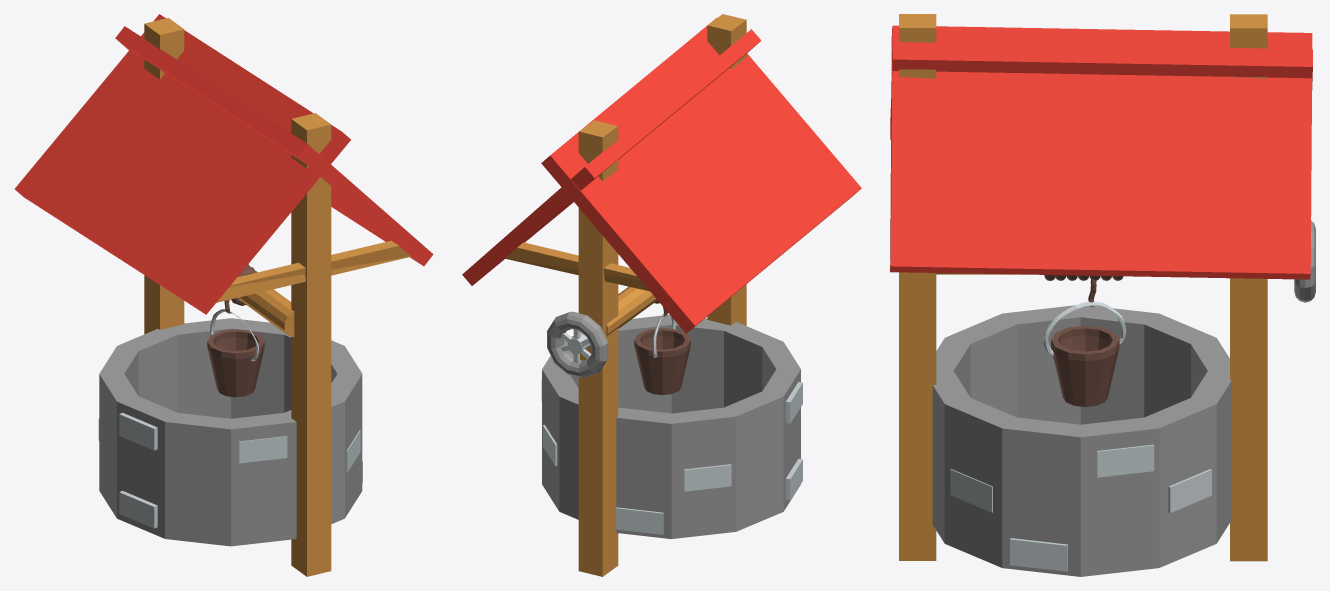
3 views of the same model, side by side, from view 1: azimuth 30°, elevation 25°; view 2: azimuth 150°, elevation 25°; view 3: azimuth 270°, elevation 25° (orthographic). The views are drawn at different scales.
Visible parts, largest first — view 1: default; view 2: default; view 3: default.
Part boxes in pixels (x1,y1,x2,y2): default: [14, 14, 433, 576]; default: [462, 14, 861, 576]; default: [890, 14, 1315, 576].
Size of the model in its own units: 0.5874 by 1.04 by 0.7459.
